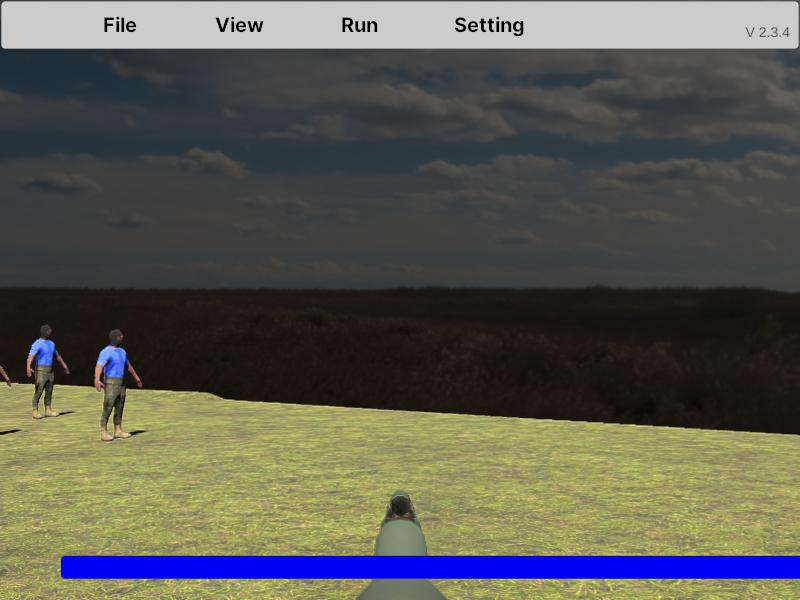Human: (95, 328, 142, 442), (27, 324, 69, 419), (0, 331, 11, 438)
